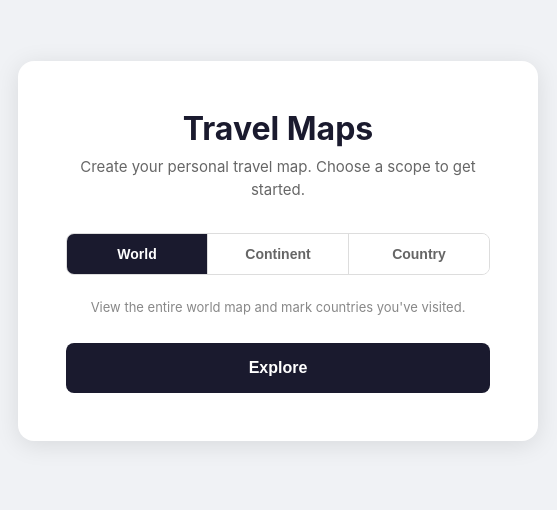
Test case: LandingPage Component › enables explore when continent is selected
Click the button "Continent". click: (278, 254)
box: [208, 234, 349, 274]
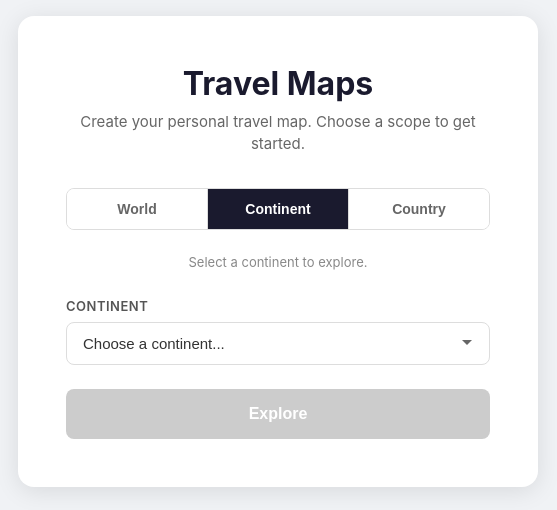
Select "Europe" in the dropdown. click: (278, 343)
box: [66, 322, 490, 364]
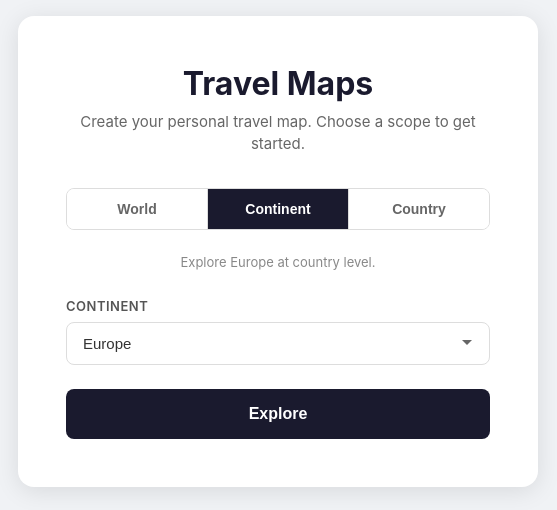
Check: the button "Explore" is enabled, box [66, 388, 490, 438]
